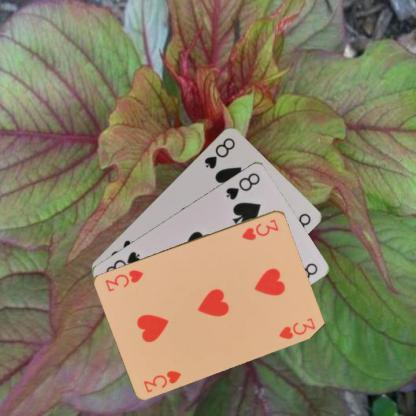3h: (141, 368, 183, 394), (239, 216, 280, 242)
8s: (202, 134, 236, 170), (223, 170, 261, 201)
